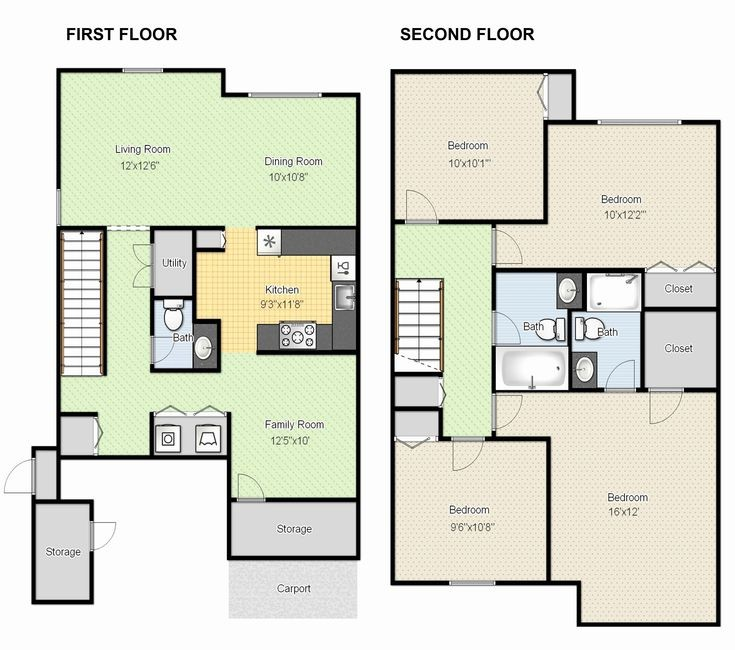door: (595, 352, 648, 401), (397, 182, 454, 226), (644, 386, 694, 435), (1, 457, 42, 513), (439, 435, 492, 478), (88, 501, 124, 562), (492, 223, 534, 272), (121, 235, 157, 291), (145, 396, 228, 420), (228, 461, 270, 507), (484, 308, 528, 346), (491, 392, 528, 435), (526, 72, 554, 121), (153, 325, 179, 368), (87, 415, 109, 461)
room: (57, 69, 364, 241), (59, 225, 233, 465), (544, 395, 722, 628), (492, 271, 732, 404), (155, 234, 353, 380), (548, 126, 720, 272), (390, 75, 553, 226), (391, 435, 551, 588), (392, 226, 497, 441), (223, 356, 355, 499), (58, 375, 226, 459), (232, 495, 364, 568), (34, 498, 97, 608)
wall: (701, 117, 733, 650), (384, 65, 404, 601), (350, 88, 368, 566), (533, 434, 566, 586), (381, 60, 582, 83), (49, 221, 66, 449), (568, 612, 726, 636), (219, 548, 367, 570), (219, 410, 239, 568), (94, 227, 114, 379), (17, 492, 43, 608), (386, 65, 404, 228), (535, 118, 561, 230), (52, 448, 232, 464), (242, 346, 368, 367), (265, 490, 366, 515), (246, 215, 366, 235), (437, 213, 554, 233), (635, 262, 651, 398), (53, 59, 125, 89), (496, 572, 585, 596), (212, 496, 242, 566), (479, 262, 637, 274), (24, 588, 107, 610), (145, 215, 228, 236), (486, 430, 564, 452), (51, 66, 65, 188), (639, 300, 726, 319), (384, 572, 453, 595), (537, 108, 602, 132), (189, 223, 204, 326), (560, 64, 585, 125), (50, 395, 101, 424), (479, 344, 506, 397), (166, 58, 225, 82), (148, 362, 225, 380), (562, 307, 577, 396), (568, 576, 592, 629), (82, 551, 103, 608), (55, 214, 112, 235), (484, 259, 505, 314), (51, 444, 68, 506), (146, 284, 165, 338), (318, 86, 365, 106), (53, 489, 99, 509), (212, 314, 226, 375), (207, 85, 251, 104), (686, 384, 726, 401), (186, 239, 228, 255), (191, 310, 224, 330), (219, 59, 230, 104), (24, 440, 61, 453)
window: (599, 113, 687, 141), (446, 572, 508, 600), (251, 87, 324, 110), (118, 56, 165, 81), (48, 189, 71, 233)
